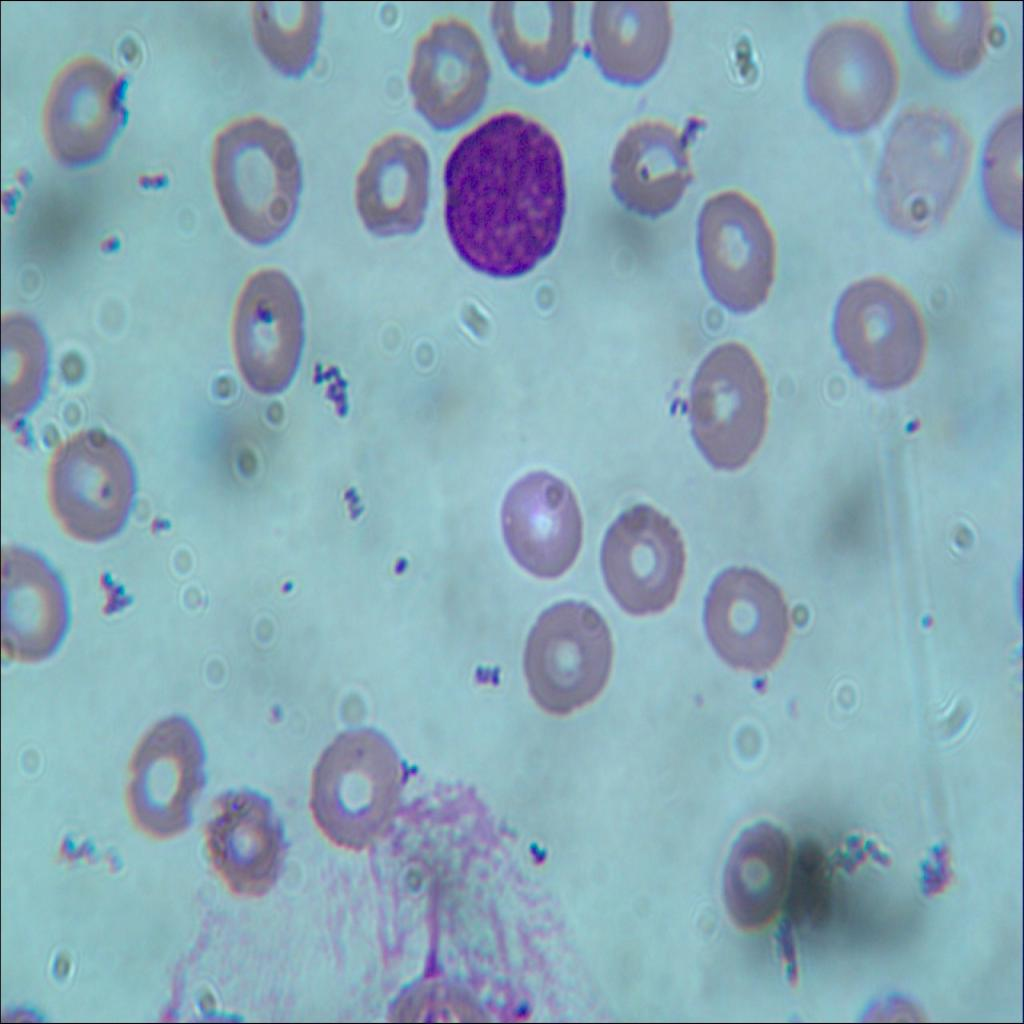Eritrosit: (830, 264, 930, 392), (299, 726, 398, 852), (798, 18, 903, 135), (683, 341, 774, 475), (208, 115, 304, 242), (688, 186, 781, 314), (114, 707, 204, 835), (42, 423, 138, 542), (226, 258, 304, 404), (698, 561, 798, 674), (34, 52, 130, 169), (524, 600, 616, 714), (598, 500, 686, 619), (884, 112, 970, 231), (496, 464, 581, 583), (200, 787, 286, 904), (348, 128, 434, 245), (0, 538, 69, 668), (604, 117, 690, 221), (410, 17, 494, 121), (591, 0, 679, 91), (489, 0, 581, 85), (724, 812, 790, 930), (244, 0, 330, 79), (906, 0, 986, 84), (0, 316, 50, 437)
Limfoblast: (443, 115, 576, 285)
Platelet: (269, 562, 296, 612), (96, 221, 126, 264), (388, 550, 413, 596), (900, 409, 926, 452), (575, 23, 596, 61), (748, 668, 769, 704), (506, 998, 536, 1023), (264, 696, 286, 730)
